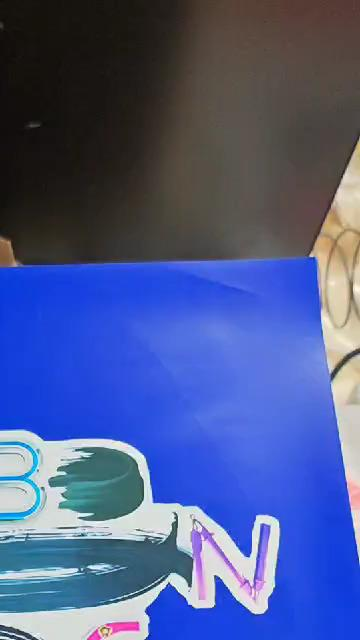B_R1: (0, 405, 311, 640)
